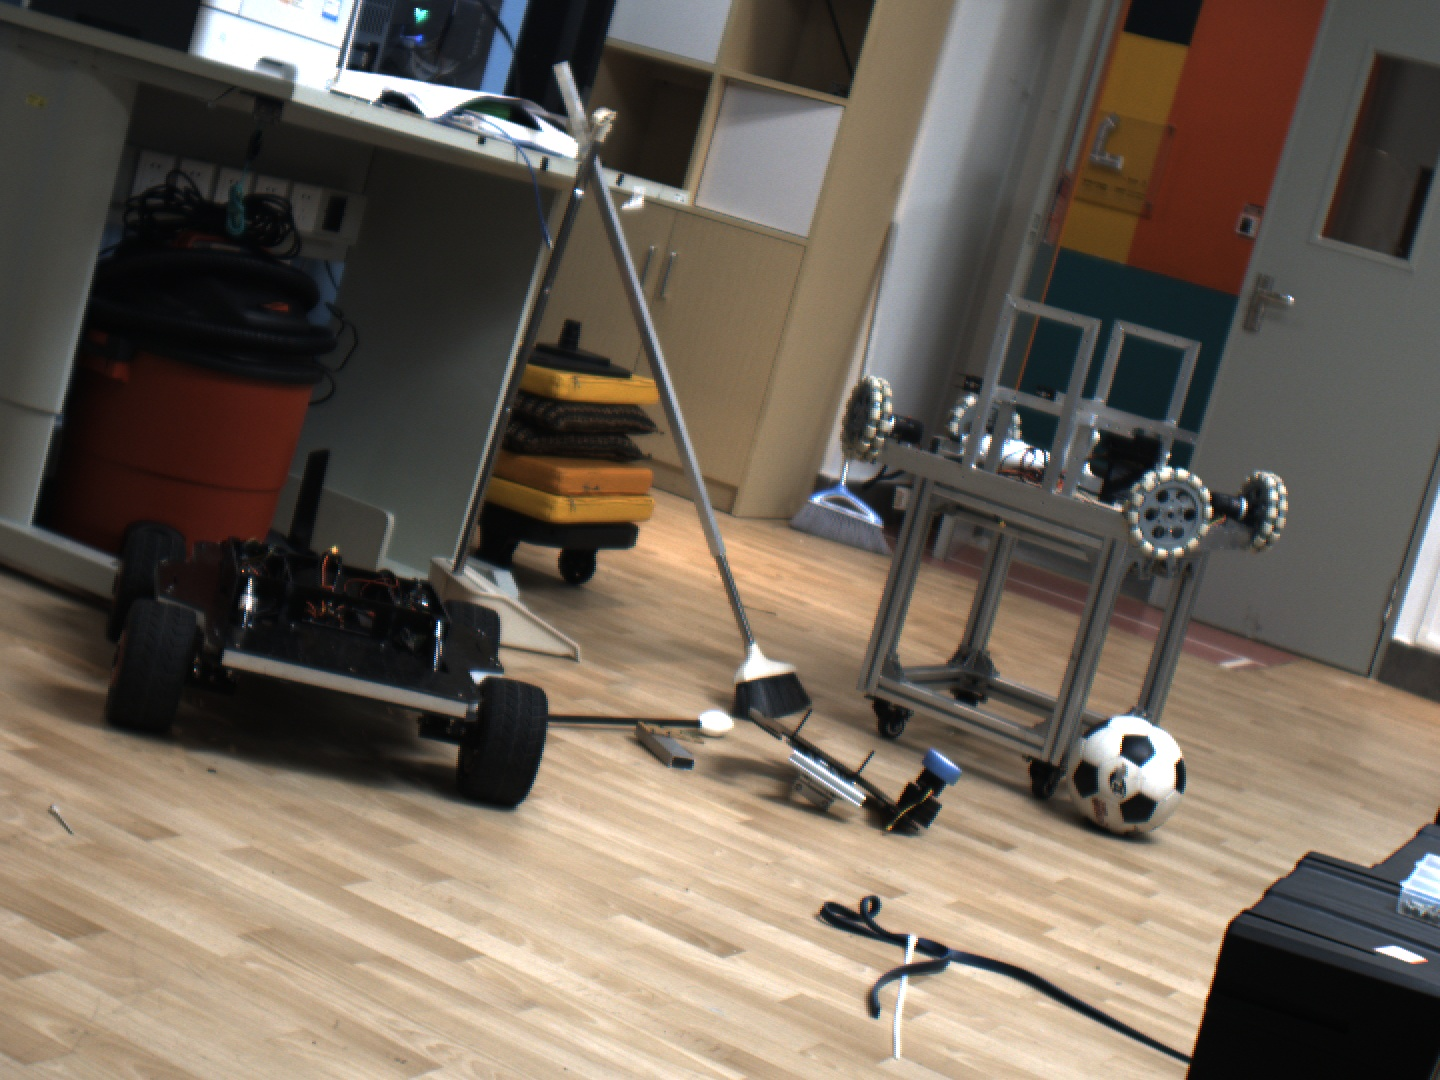ball: (1051, 704, 1205, 844)
